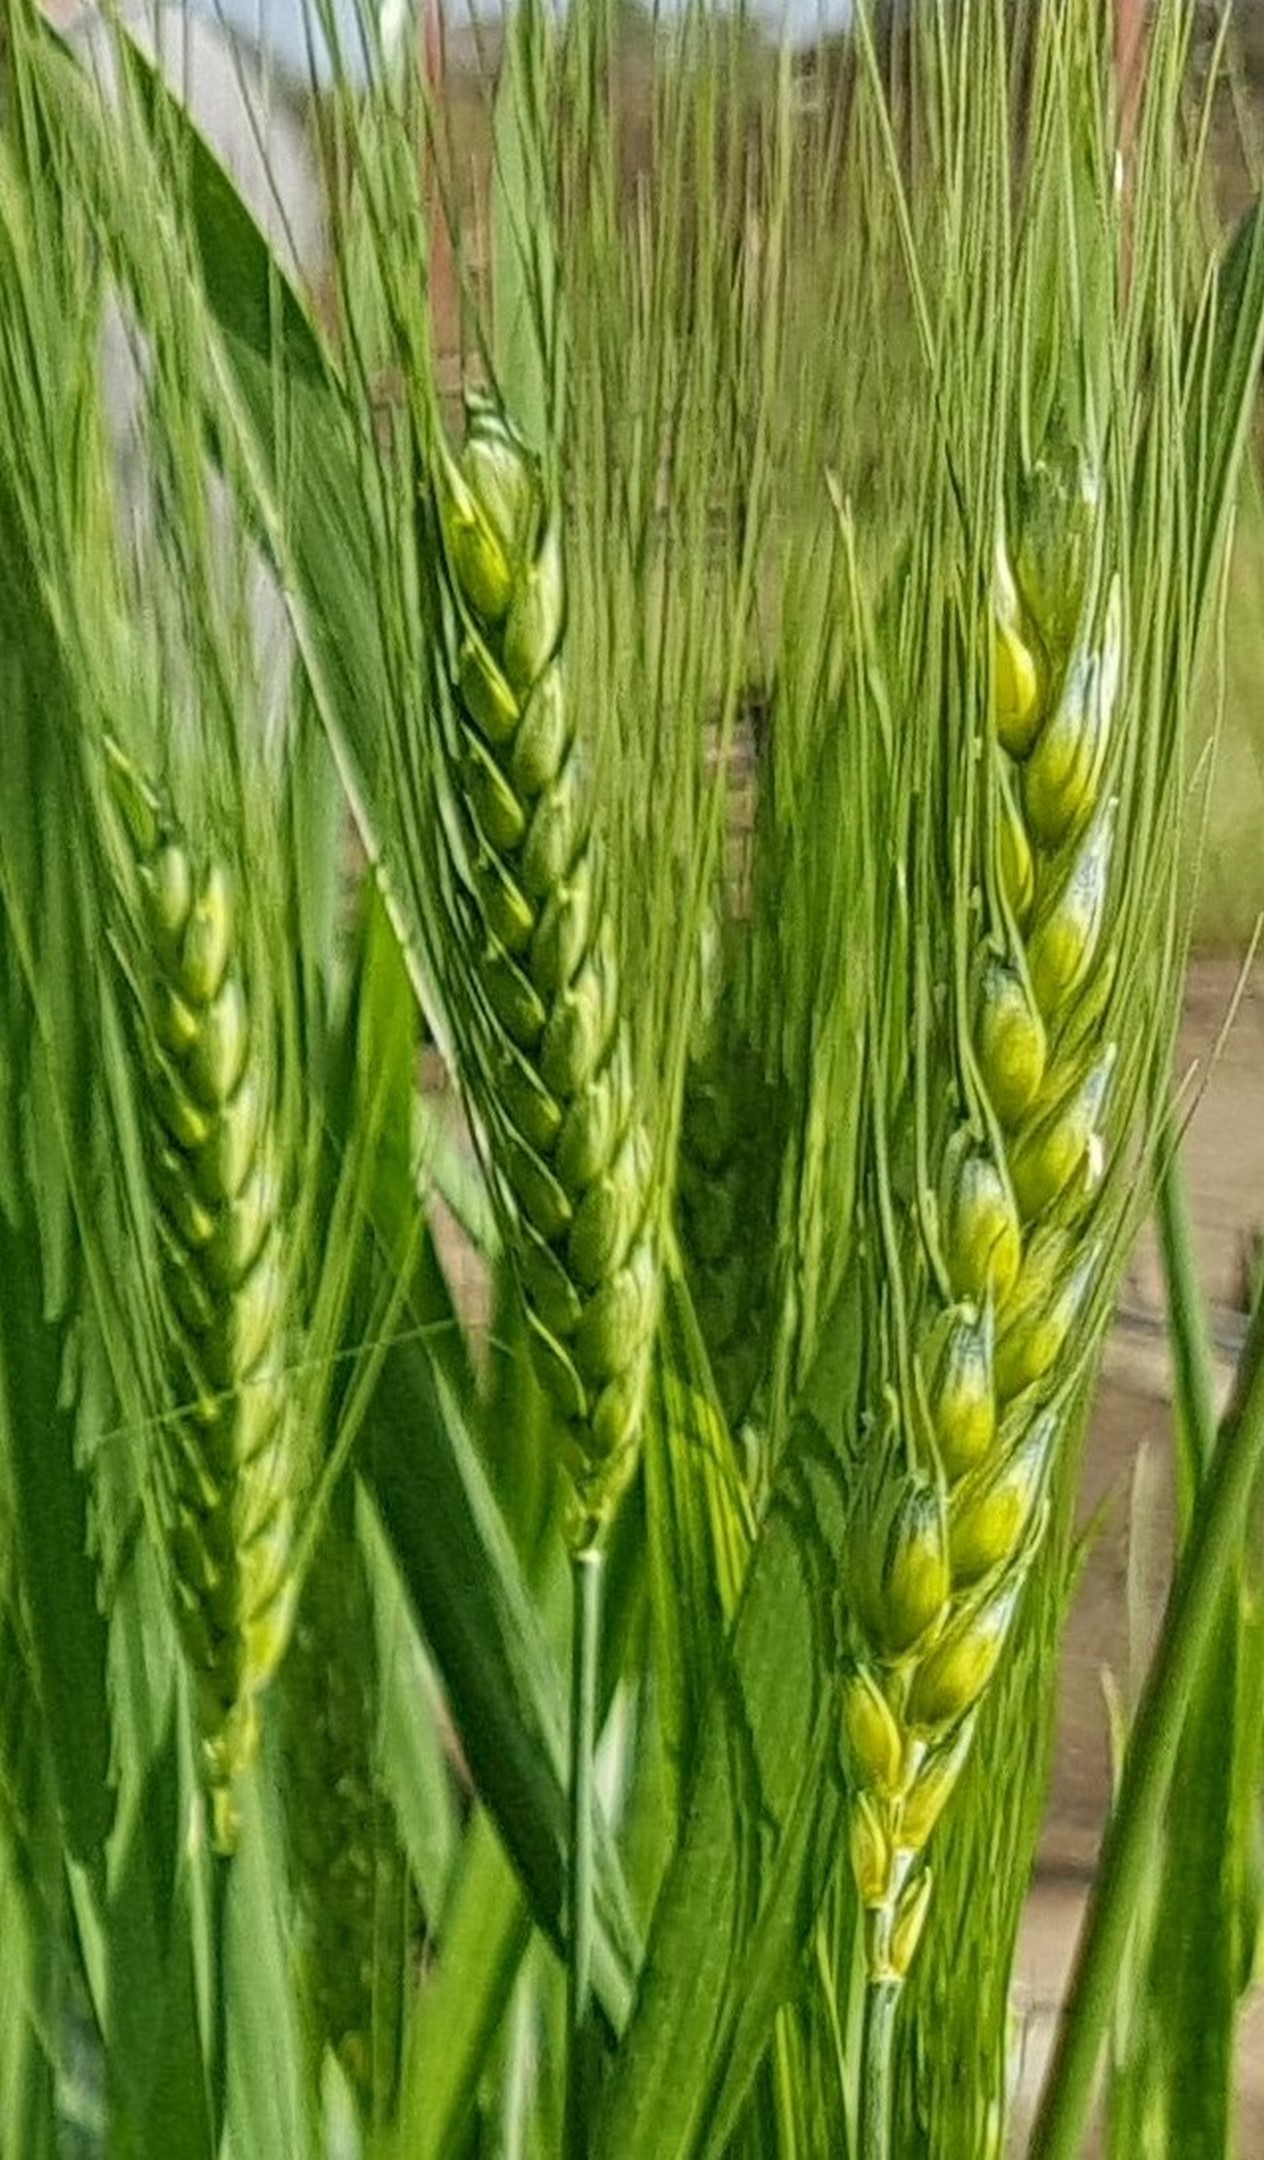Healthy Wheat: (370, 402, 709, 1503)
